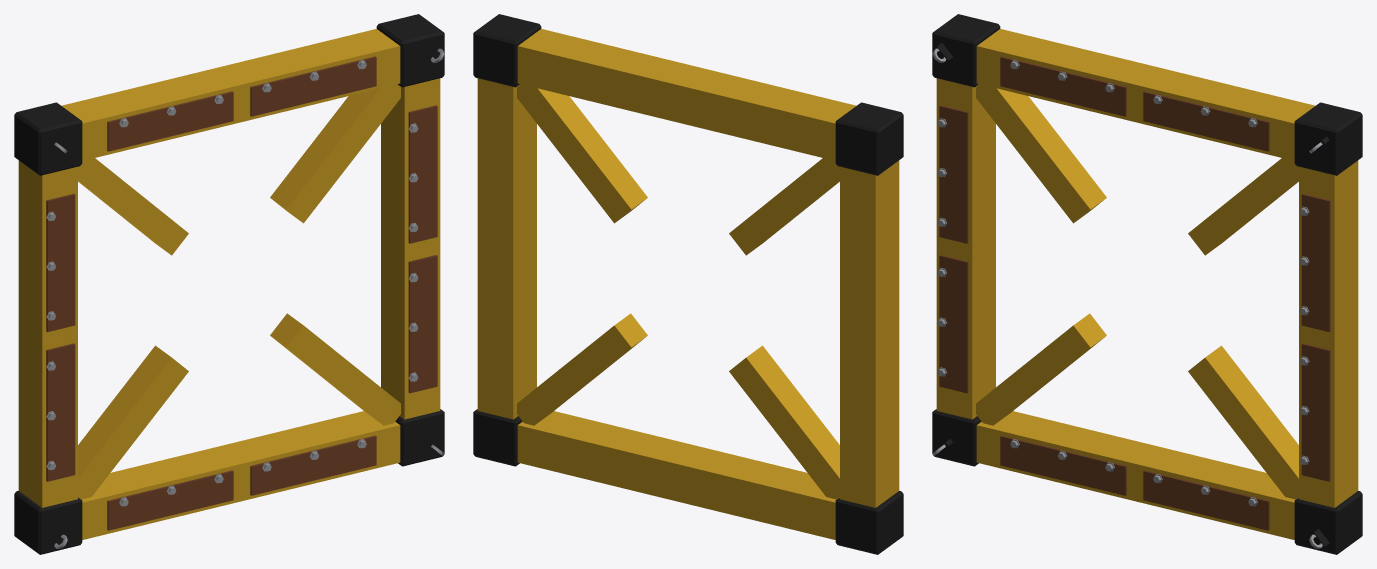
The model's file is trh_frame.obj.
The picture shows the model from 3 angles, left to right: view 1: azimuth 30°, elevation 25°; view 2: azimuth 150°, elevation 25°; view 3: azimuth 330°, elevation 25°; orthographic projection.
Parts seen in each view (by area): view 1: trh_frame; view 2: trh_frame; view 3: trh_frame.
Boxes of the visible parts, bbox=[...] form: trh_frame: bbox=[14, 14, 444, 554]; trh_frame: bbox=[473, 14, 903, 554]; trh_frame: bbox=[932, 14, 1362, 554].
Bounding box in the file's own units: 5.68 × 5.68 × 0.882.
